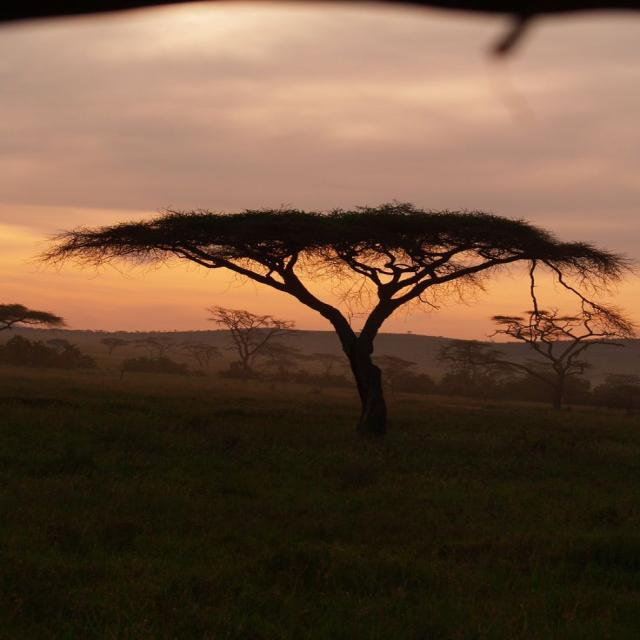Acacia: (94, 199, 598, 424)
